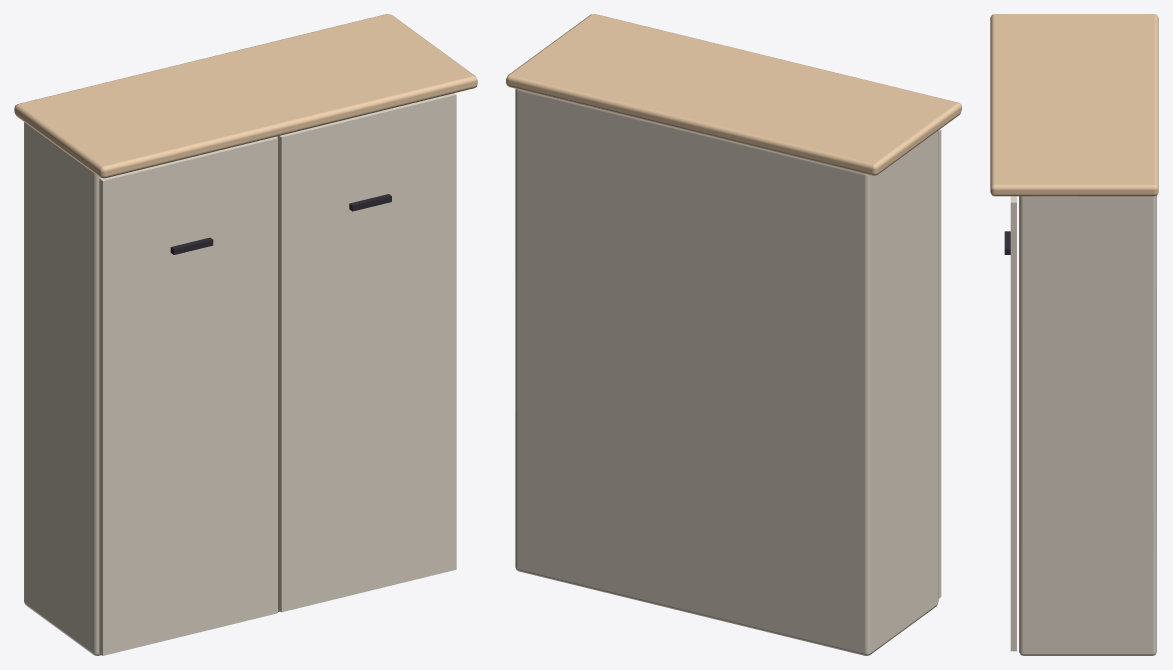
File: show_wardrobe.glb
3 renders of one model, left to right at view 1: azimuth 30°, elevation 25°; view 2: azimuth 150°, elevation 25°; view 3: azimuth 270°, elevation 25°, orthographic. The views are drawn at different scales.
Size of the model in its own units: 2.2 by 2.8 by 0.9.
